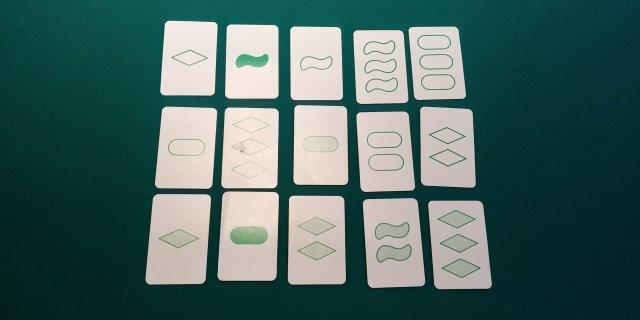1ED: (166, 22, 211, 93)
1EP: (165, 109, 208, 186)
1EW: (292, 29, 338, 97)
1FP: (224, 195, 273, 276)
1FW: (228, 26, 274, 97)
1HD: (155, 199, 202, 279)
1HP: (296, 108, 344, 183)
2ED: (423, 112, 470, 184)
2EP: (360, 116, 406, 187)
2HD: (291, 199, 341, 279)
2HW: (369, 201, 416, 282)
3ED: (226, 109, 274, 185)
3EP: (414, 30, 458, 97)
3EW: (356, 31, 402, 100)
3HD: (434, 205, 482, 284)
